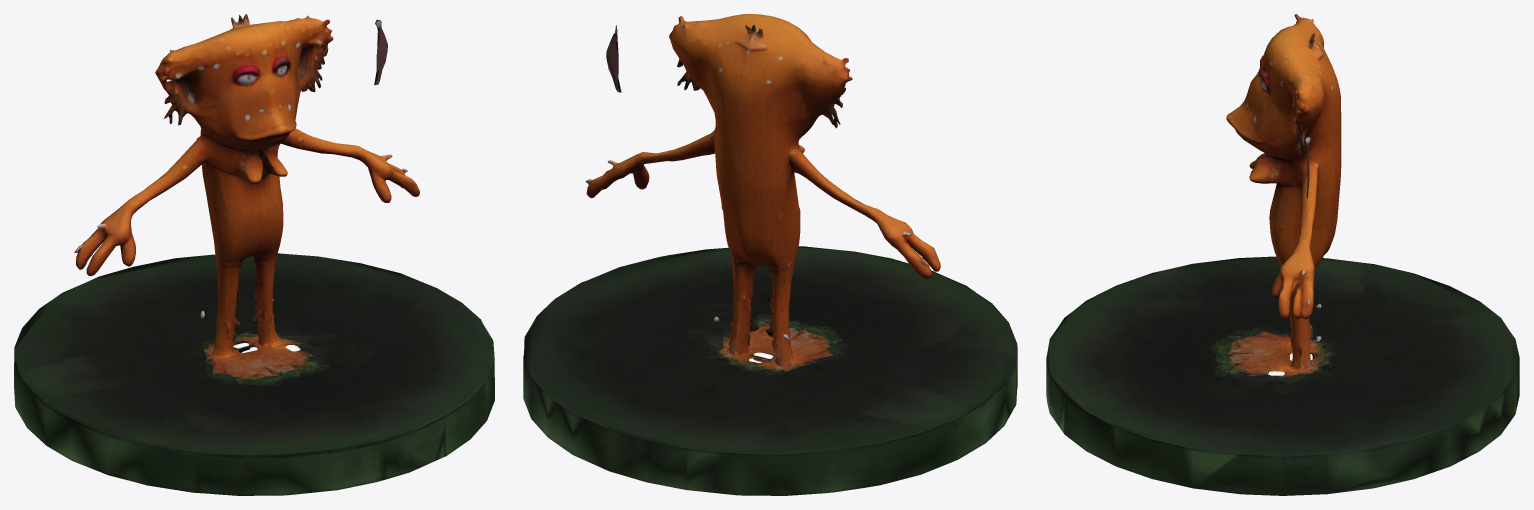
File: mr_grin_c.glb
3 views of the same model, side by side, from view 1: azimuth 30°, elevation 25°; view 2: azimuth 150°, elevation 25°; view 3: azimuth 270°, elevation 25° (orthographic). The views are drawn at different scales.
Visible parts, largest first — view 1: mr_grin_c; view 2: mr_grin_c; view 3: mr_grin_c.
Boxes of the visible parts, x1=… form: mr_grin_c: x1=14, y1=14, x2=494, y2=495; mr_grin_c: x1=523, y1=14, x2=1017, y2=495; mr_grin_c: x1=1046, y1=14, x2=1519, y2=495.
Size of the model in its own units: 0.9999 by 0.8562 by 1.
1 material, 1 textured.
